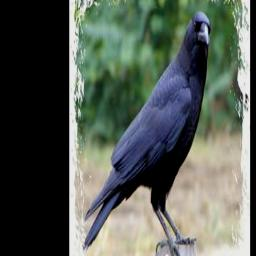Crow: (81, 9, 214, 256)
